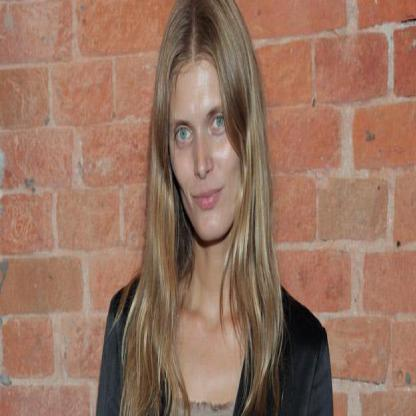long-hair: (130, 249, 287, 310)
